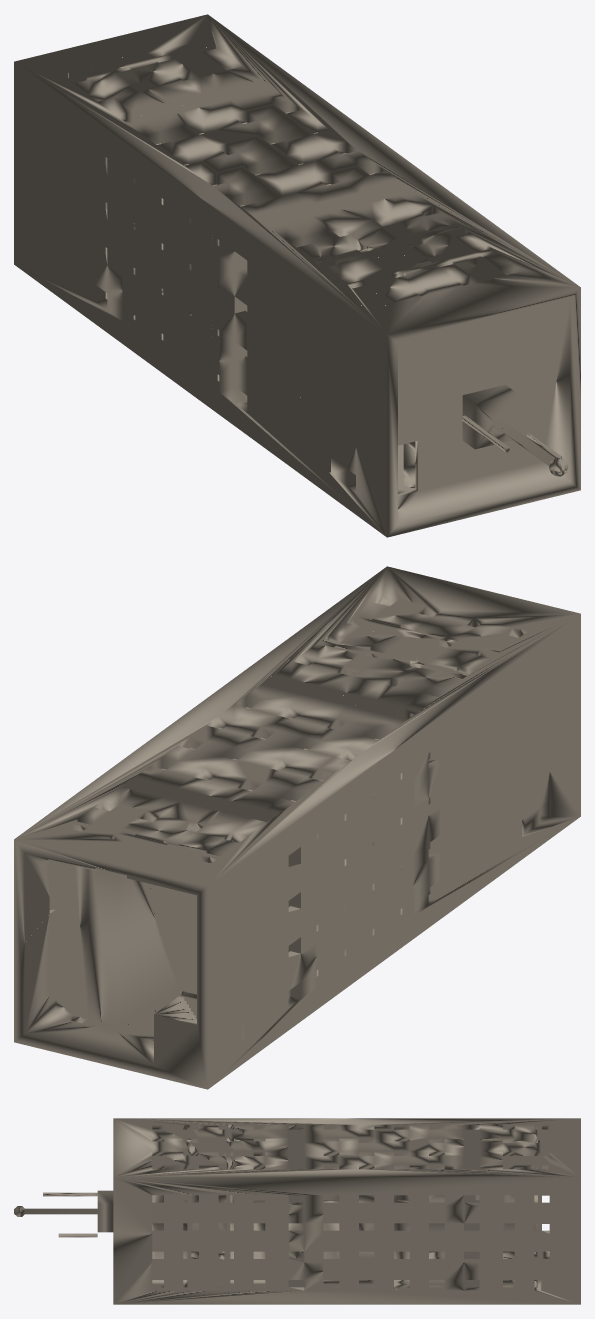
The model's file is megatower.glb.
3 views of the same model, one above another, from view 1: azimuth 30°, elevation 25°; view 2: azimuth 150°, elevation 25°; view 3: azimuth 270°, elevation 25° (orthographic). The views are drawn at different scales.
Visible parts, largest first — view 1: megatower; view 2: megatower; view 3: megatower.
Boxes of the visible parts, x1,y1,x2,y2 form: megatower: [14, 14, 580, 537]; megatower: [14, 566, 580, 1089]; megatower: [14, 1118, 580, 1304].
Bounding box in the file's own units: 36 × 36 × 145.
